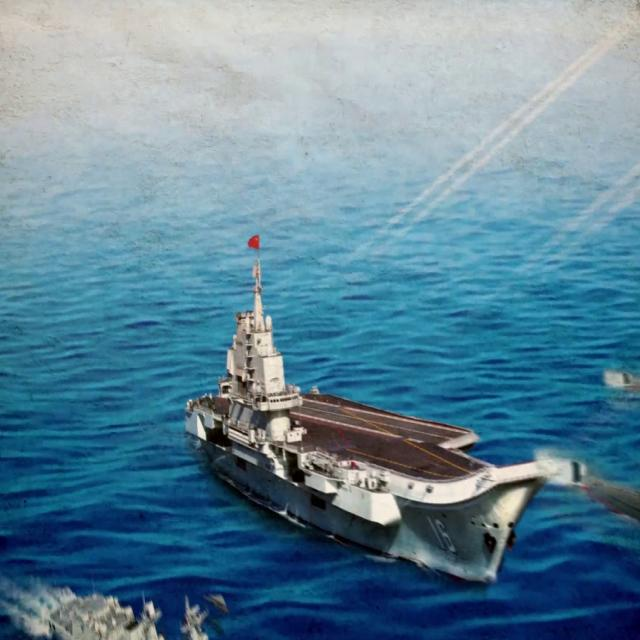navalvessels: (181, 239, 536, 585)
